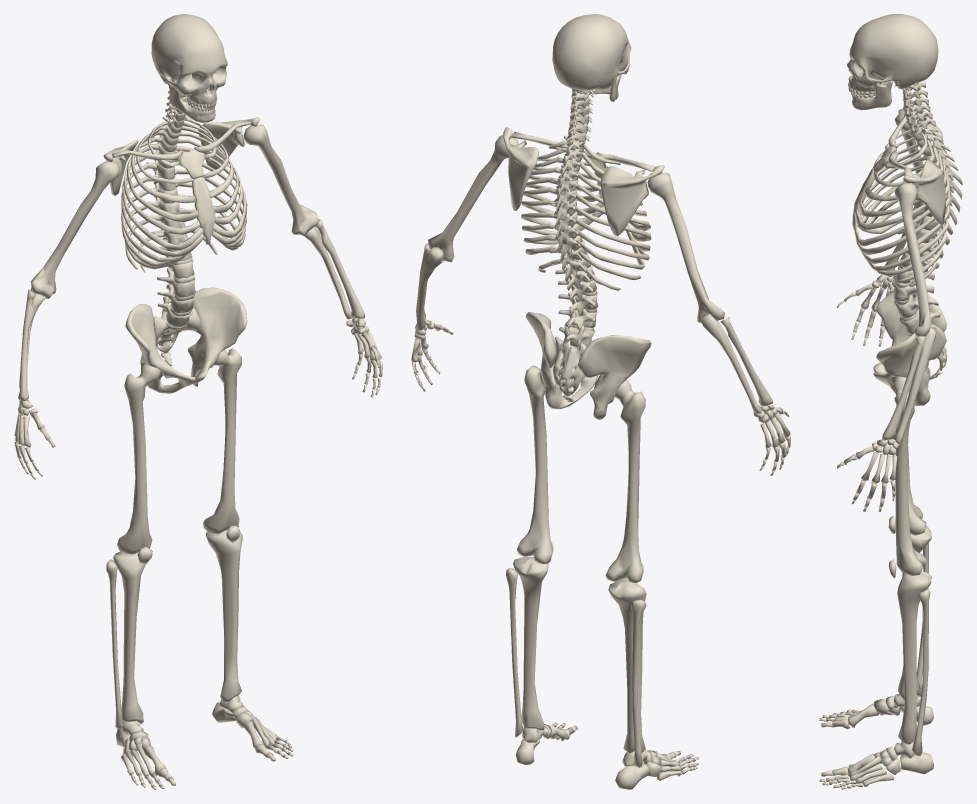
The model's file is esqueleto.glb.
The picture shows the model from 3 angles, left to right: view 1: azimuth 30°, elevation 25°; view 2: azimuth 150°, elevation 25°; view 3: azimuth 270°, elevation 25°; orthographic projection. The views are drawn at different scales.
Parts seen in each view (by area): view 1: Esqueleto; view 2: Esqueleto; view 3: Esqueleto.
Part boxes in pixels (x1,y1,x2,y2): Esqueleto: [14, 14, 382, 789]; Esqueleto: [411, 14, 790, 789]; Esqueleto: [819, 14, 962, 789].
Bounding box in the file's own units: 0.9009 × 1.75 × 0.3097.
